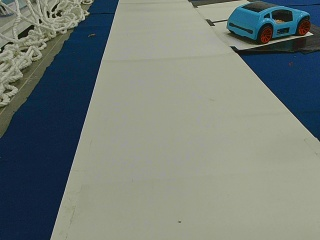car: (226, 2, 311, 43)
